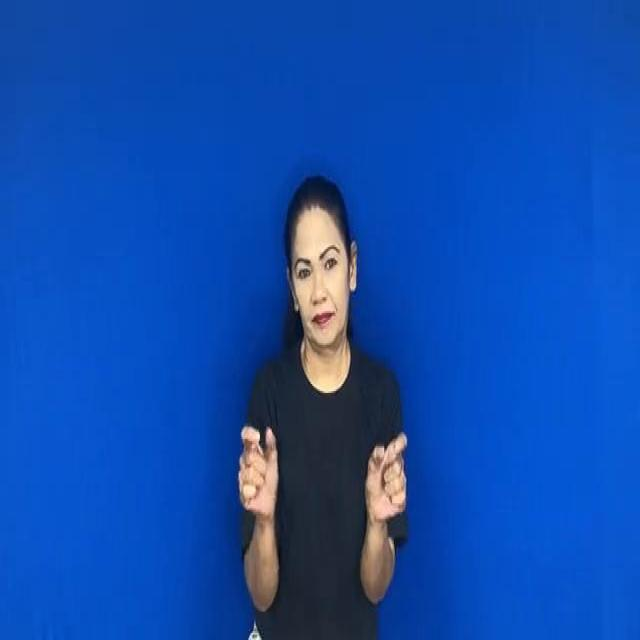crab: (226, 401, 417, 539)
